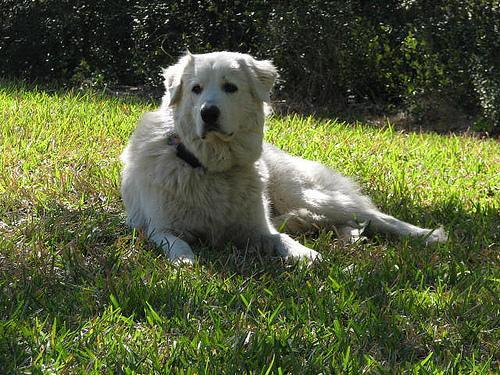Great_Pyrenees: (120, 49, 446, 268)
